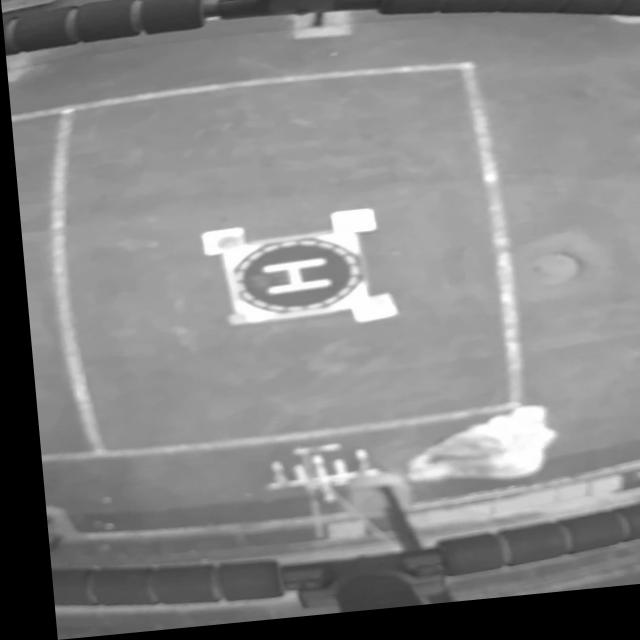Helipad: (257, 263, 325, 301)
